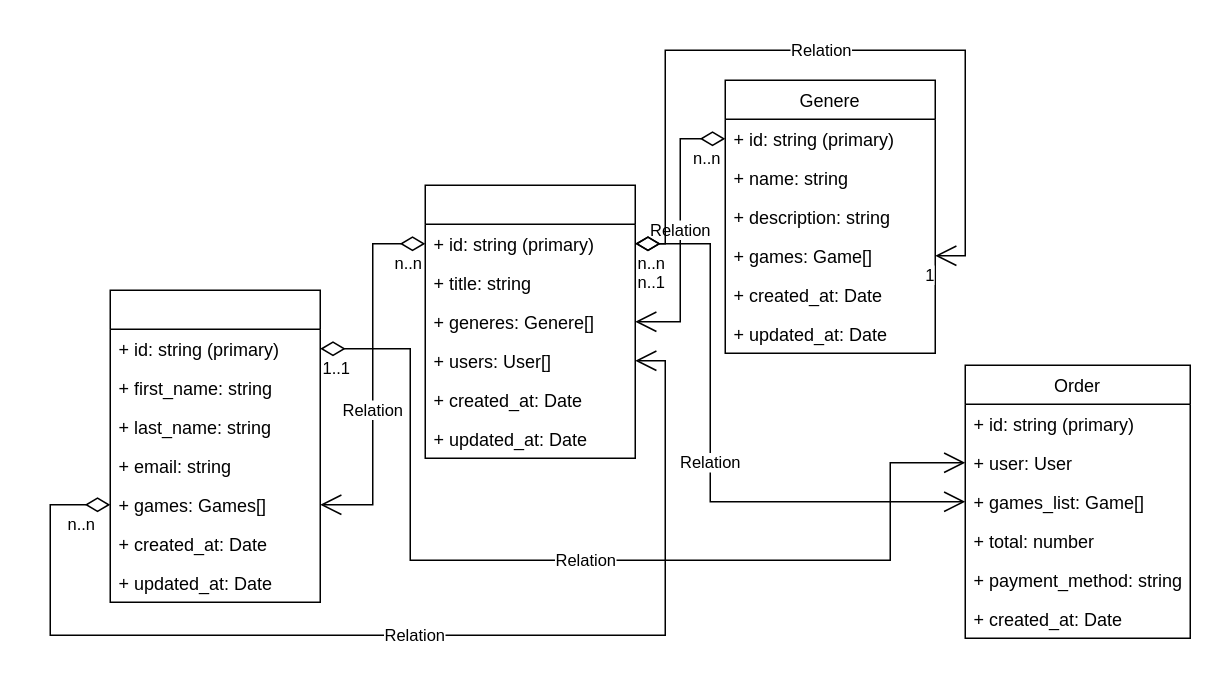
Some shapes in this 1217 by 687 pixel diagram are drawn without their labels. Each missing label, with the box of its shape:
Game: (424, 184, 635, 458)
User: (109, 289, 320, 602)
